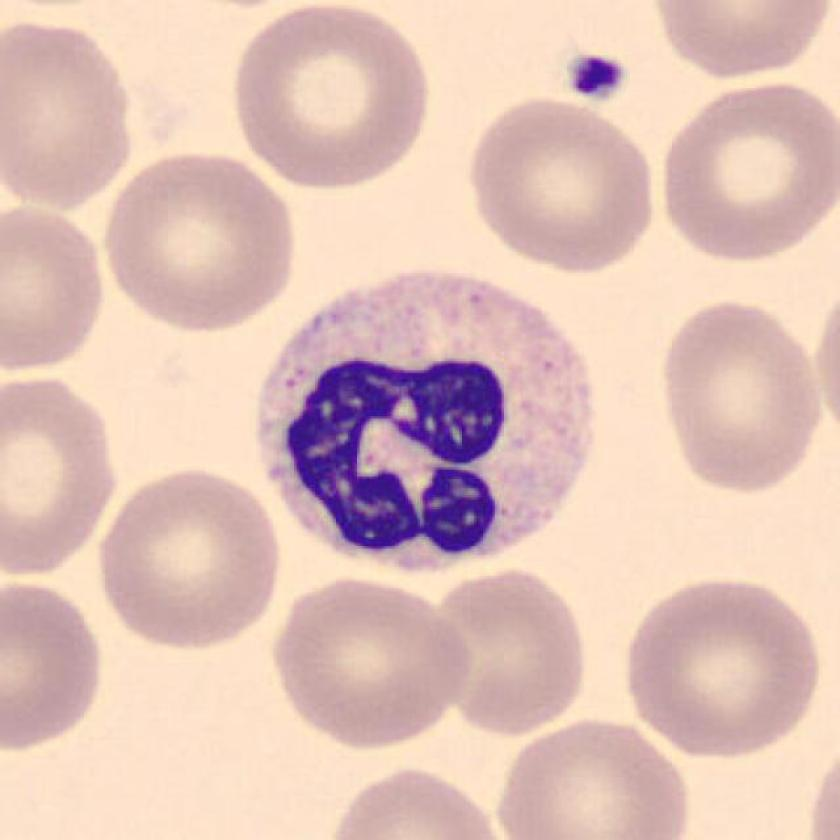neutrophil: (258, 275, 596, 572)
